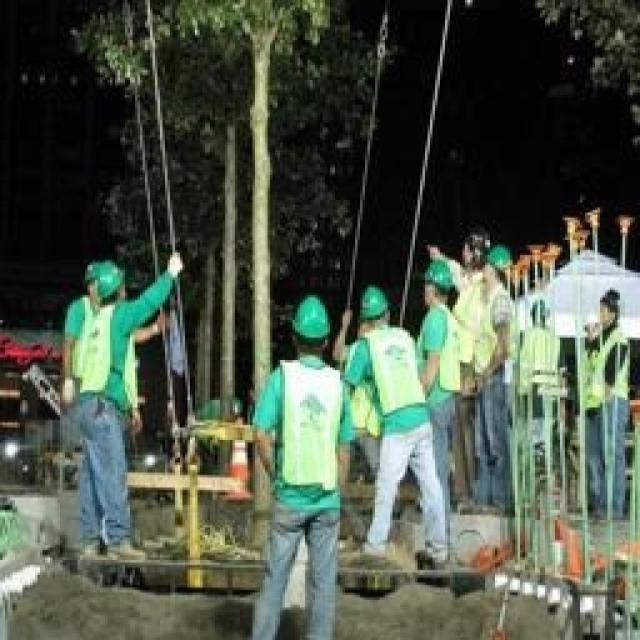Helmet: (275, 280, 339, 353), (344, 269, 404, 328), (414, 252, 464, 318), (89, 253, 144, 306), (591, 278, 624, 334), (486, 238, 518, 292), (459, 220, 490, 273), (529, 293, 557, 336), (74, 250, 96, 297), (577, 306, 599, 346)
Safety Vest: (264, 346, 350, 525), (79, 299, 159, 426), (352, 327, 428, 429), (418, 300, 469, 417), (517, 324, 571, 418), (591, 335, 640, 427), (59, 298, 91, 412), (479, 291, 514, 392), (457, 272, 493, 362), (572, 346, 604, 436)
